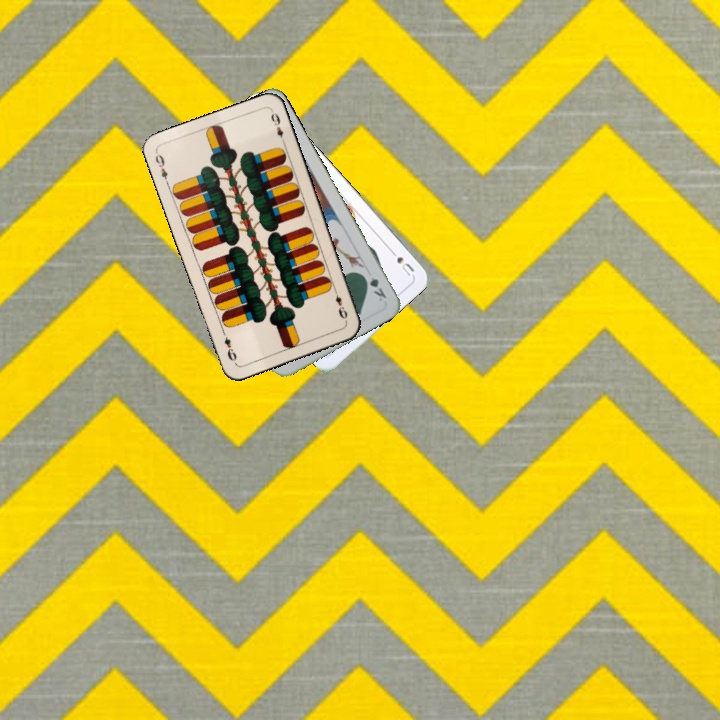E9: (151, 149, 172, 188), (330, 285, 350, 321)
GK: (359, 269, 389, 304)
SU: (385, 244, 417, 279)
